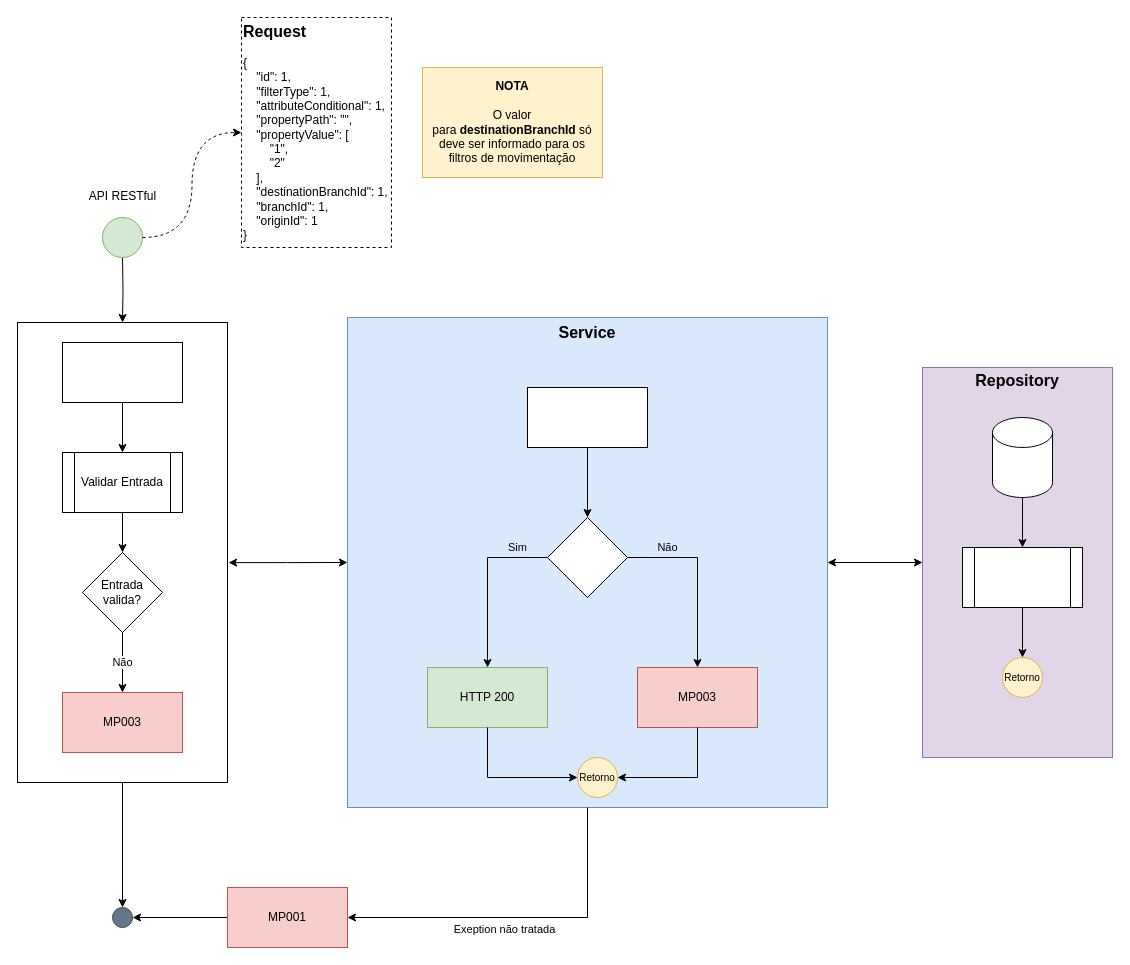
This 1130x965 diagram has some shape labels left out. The shapes that lost their labels are listed below. From the top down, each one's box as (x1, y1, x2, y2) in pixels, then its label:
(102, 216, 142, 258): Início
(62, 342, 182, 402): UpdateFilter
(526, 386, 648, 448): UpdateFilterDB
(992, 416, 1052, 498): DB
(546, 516, 628, 598): sucesso?
(962, 546, 1082, 608): Atualizar cache
